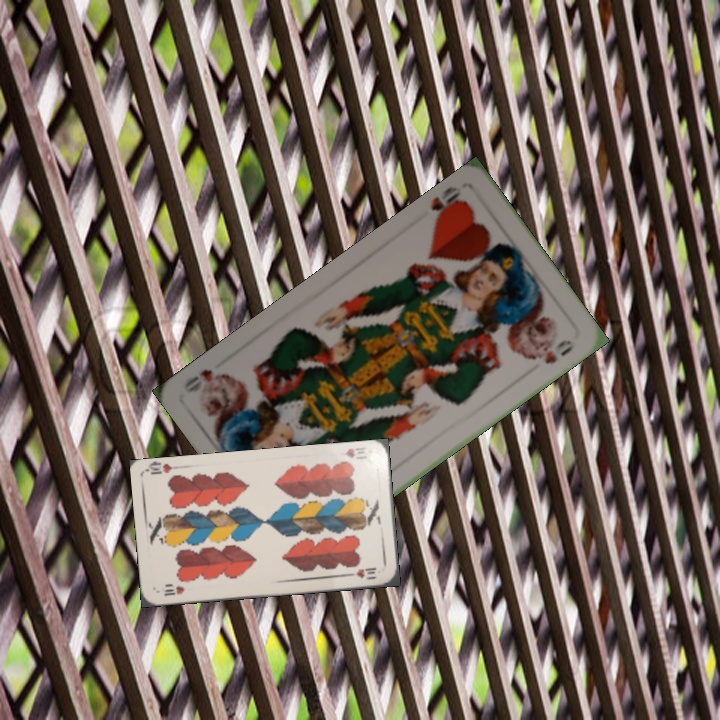H10: (158, 581, 187, 598), (341, 443, 370, 460)
HO: (427, 182, 470, 228)
